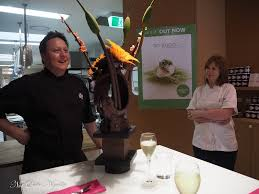Caution: (1, 29, 239, 167)
